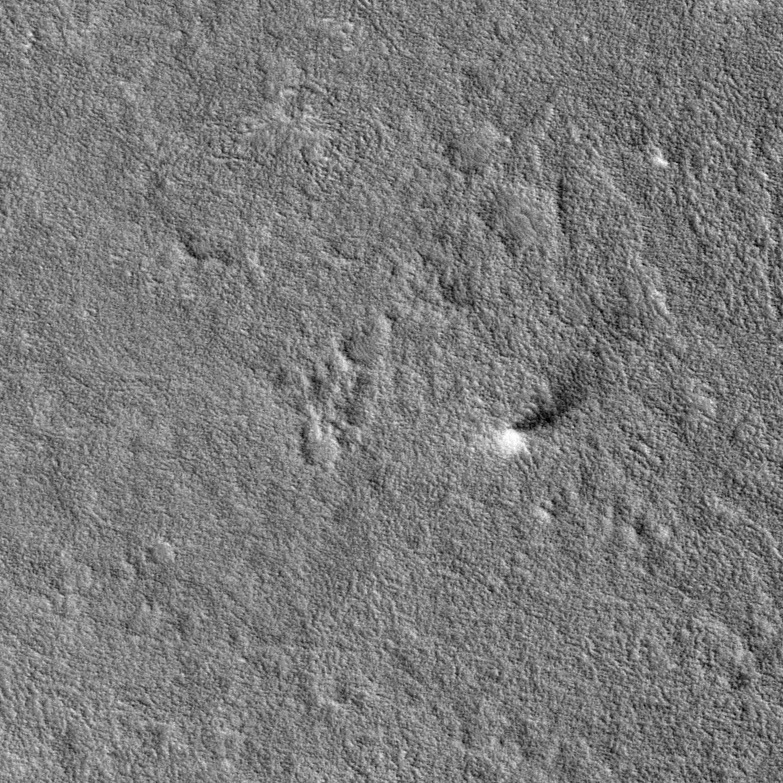dust_devil: (494, 373, 594, 460)
